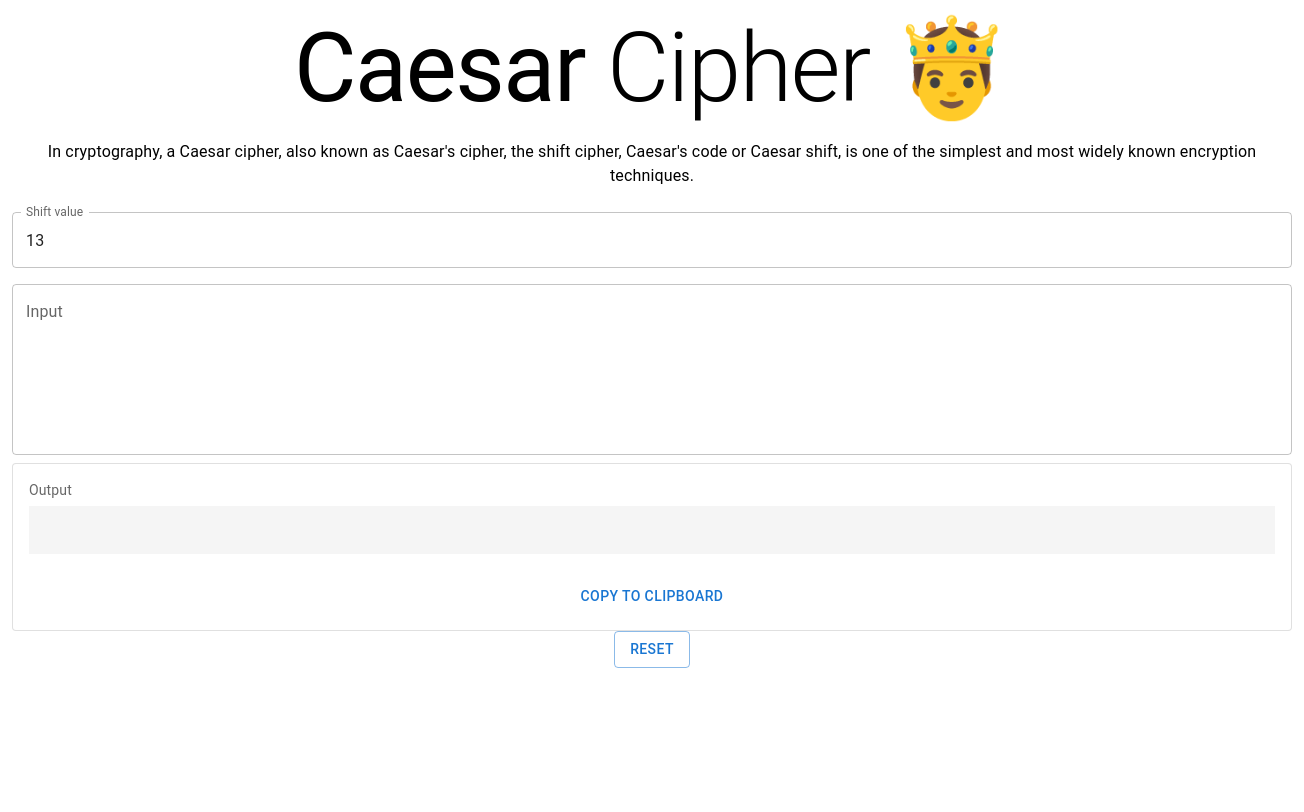
Test: <CaesarCipher/> › should change the 'Shift value' to '26' if user types value that is > 26 (maximum value)
This screenshot has width=1304, height=812.
Replace the text in the field labelled "Shift value" with "100" at (652, 240), box x1=12 y1=212 x2=1292 y2=268
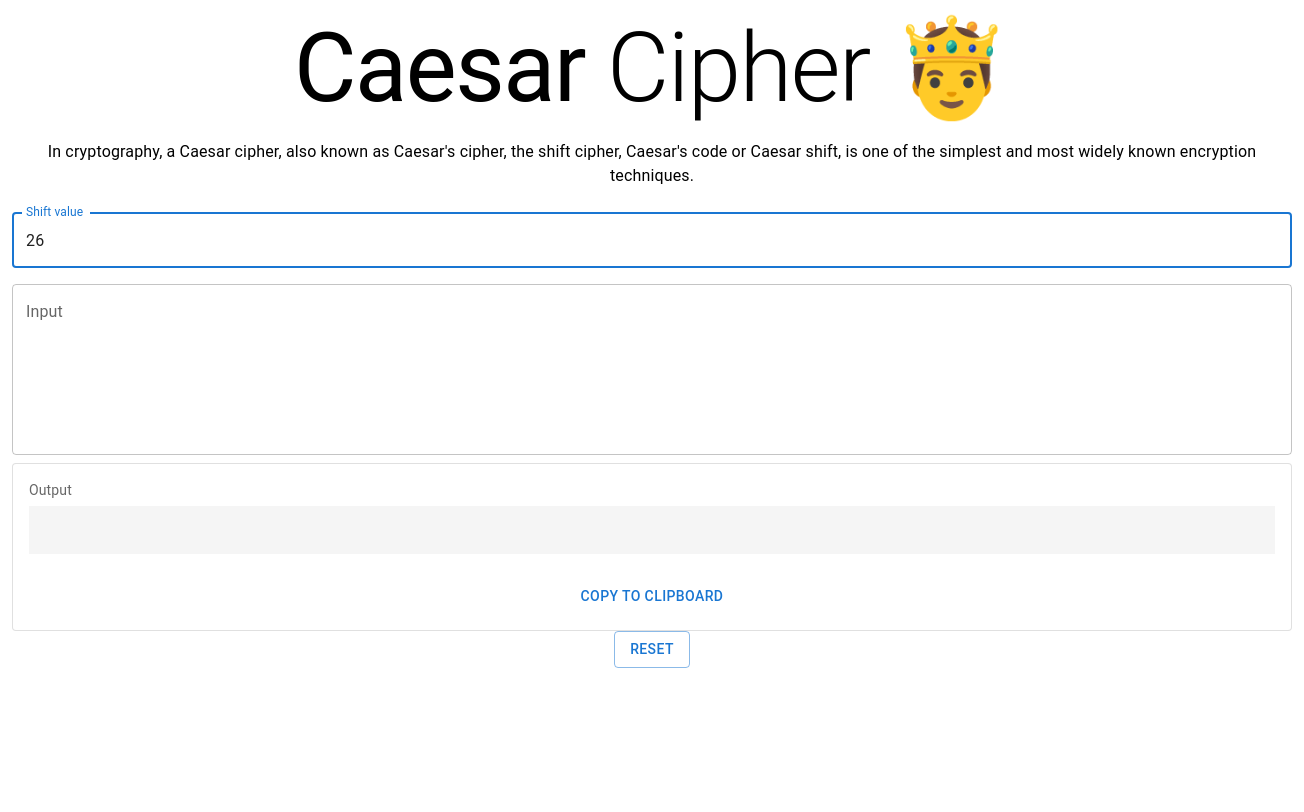
Check: the field labelled "Shift value" holds "26", box x1=12 y1=212 x2=1292 y2=268
